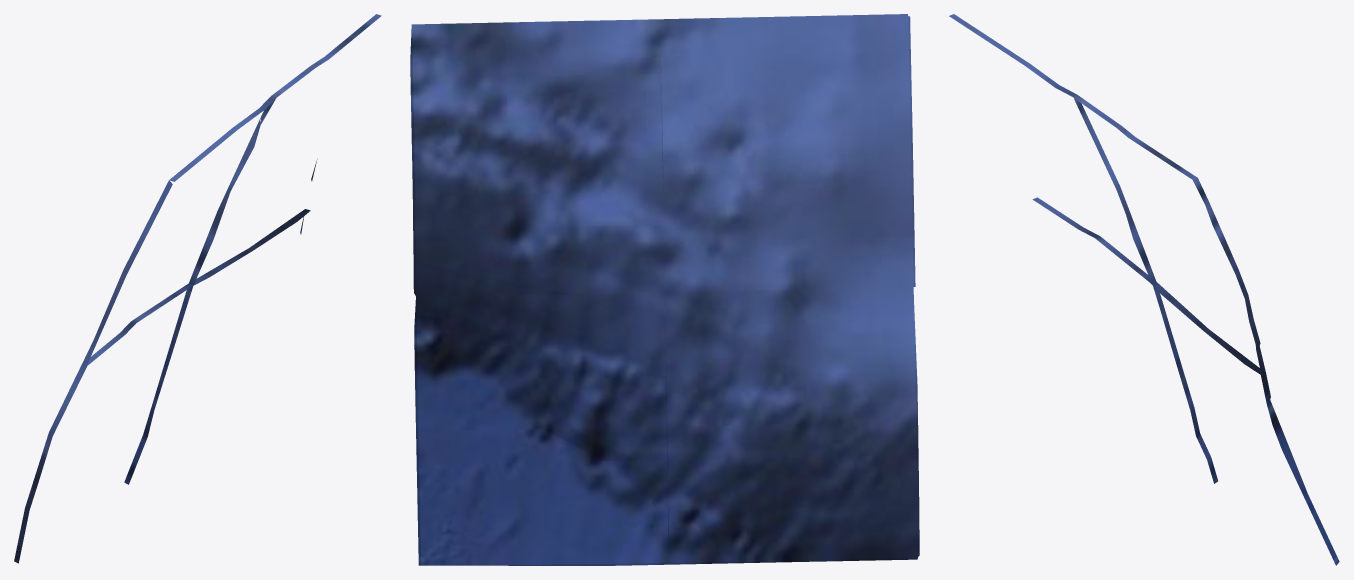
3 renders of one model, left to right at view 1: azimuth 30°, elevation 25°; view 2: azimuth 150°, elevation 25°; view 3: azimuth 270°, elevation 25°, orthographic. The views are drawn at different scales.
Bounding box in the file's own units: 38164 × 37408 × 30878.
1 material, 1 textured.
